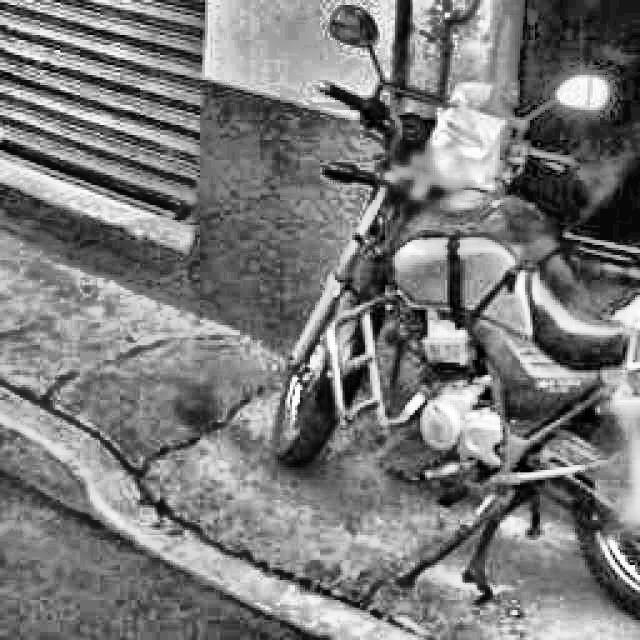motorcycle: (263, 4, 640, 639)
